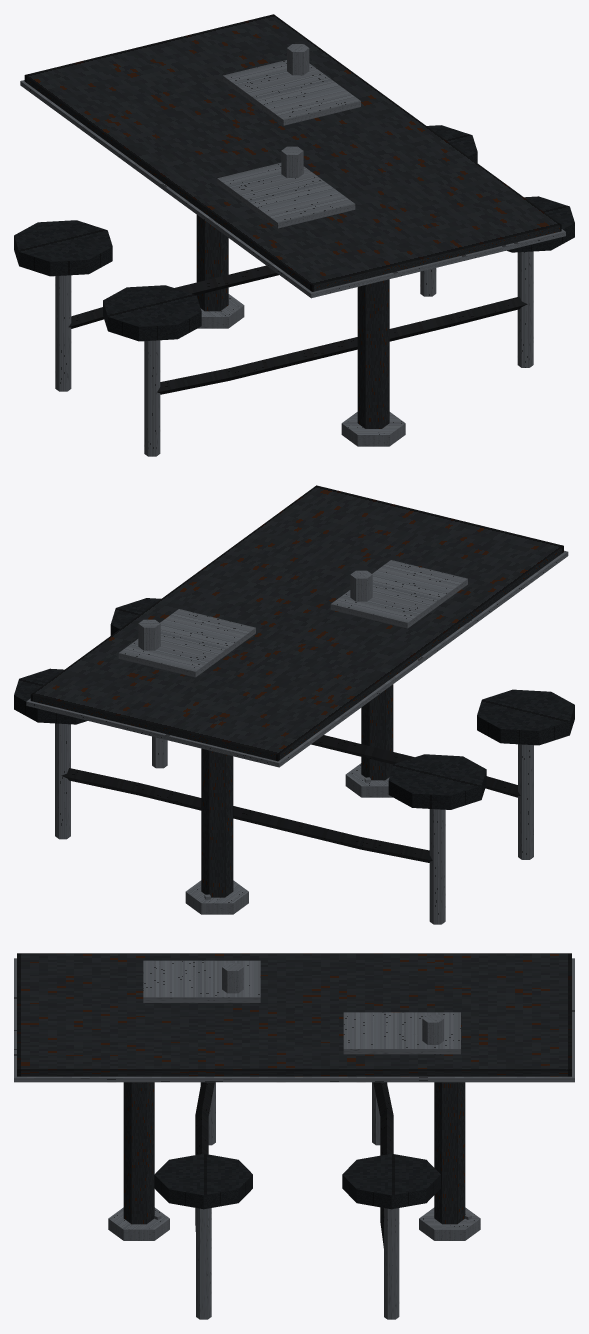
File: mess_table_command_bridge.glb
3 renders of one model, top to bottom at view 1: azimuth 30°, elevation 25°; view 2: azimuth 150°, elevation 25°; view 3: azimuth 270°, elevation 25°, orthographic. The views are drawn at different scales.
Parts seen in each view (by area): view 1: mess_table_command_bridge; view 2: mess_table_command_bridge; view 3: mess_table_command_bridge.
Boxes of the visible parts, bbox=[...] form: mess_table_command_bridge: bbox=[14, 14, 574, 456]; mess_table_command_bridge: bbox=[14, 485, 574, 924]; mess_table_command_bridge: bbox=[14, 953, 574, 1319].
Bounding box in the file's own units: 1.66 × 0.885 × 1.82.
4 materials, 4 textured.
